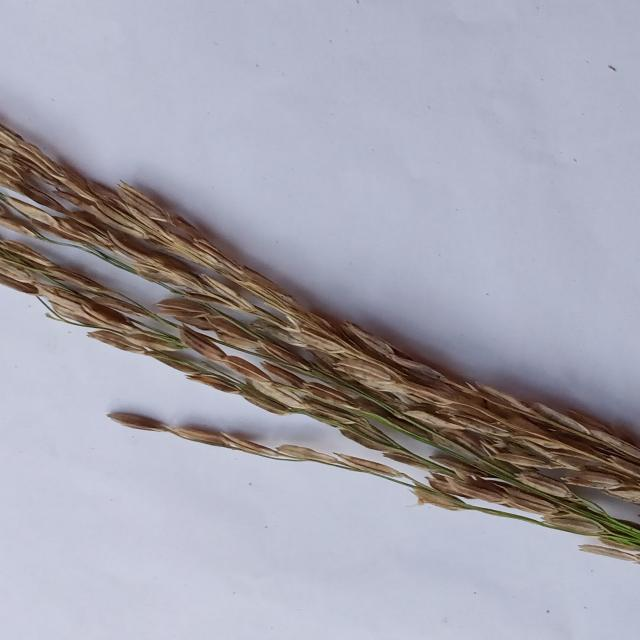Neck_Blast: (0, 101, 640, 561)
